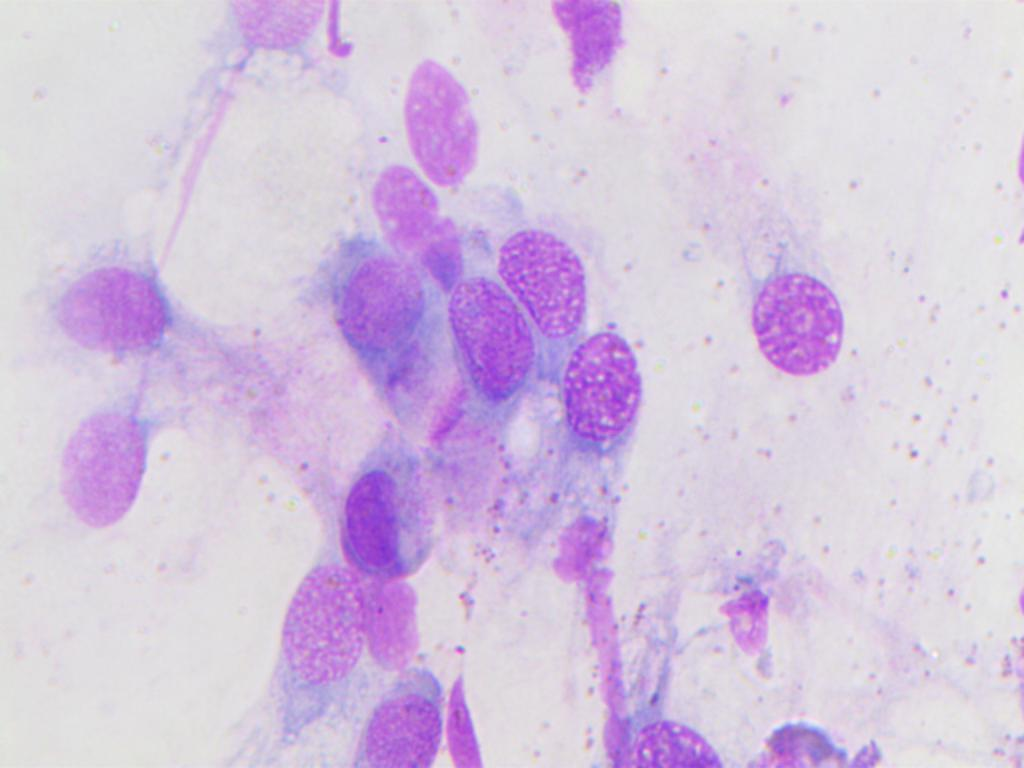artifact: (552, 494, 624, 768), (547, 0, 639, 97), (710, 566, 782, 672), (754, 711, 874, 768), (451, 673, 488, 768)
epithelial: (263, 566, 362, 733), (438, 275, 538, 430), (357, 159, 472, 284), (741, 261, 851, 382), (53, 405, 155, 530), (334, 449, 429, 576), (52, 265, 173, 359), (326, 256, 430, 359), (401, 58, 484, 186), (497, 225, 590, 338), (560, 327, 646, 442), (337, 680, 446, 767), (351, 580, 442, 672), (221, 0, 329, 71), (607, 721, 739, 768)
